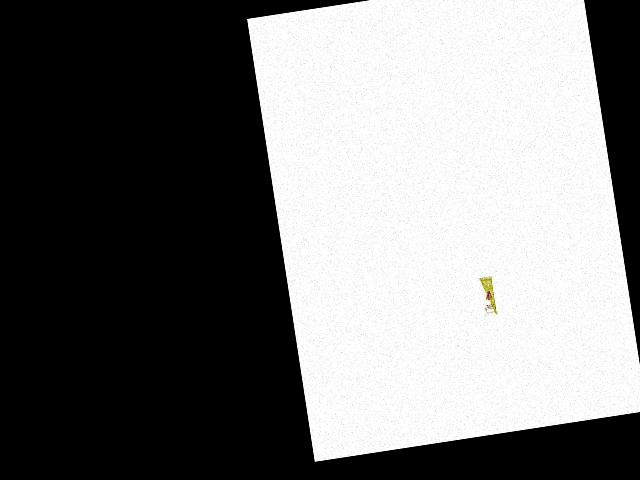chocolate: (475, 273, 501, 319)
